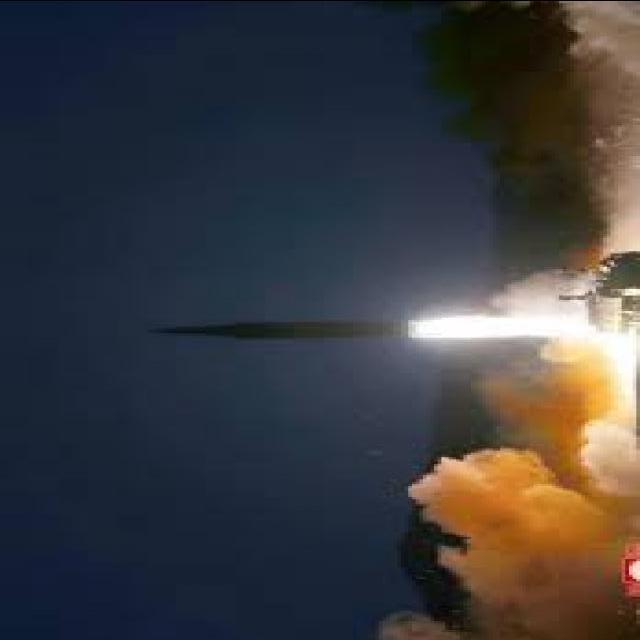missile: (140, 316, 438, 343)
